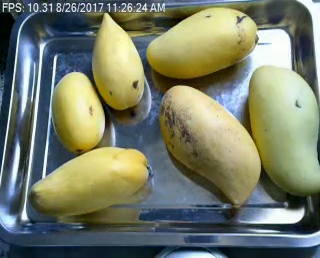Mango: (160, 84, 263, 203), (249, 68, 320, 192), (30, 145, 148, 217), (145, 6, 260, 79), (91, 9, 144, 106), (52, 71, 105, 153)
